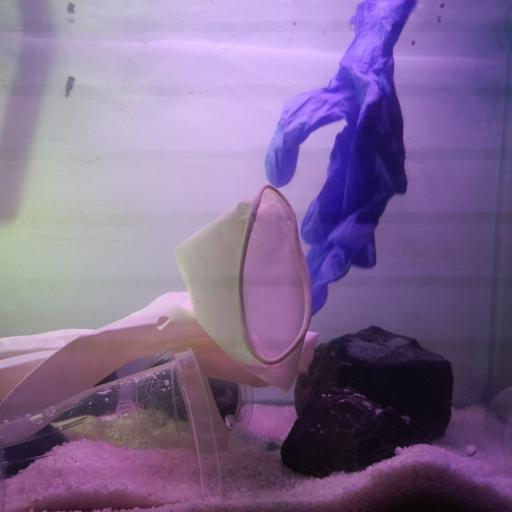glove: (2, 184, 310, 450), (263, 1, 420, 315)
plastic_cup: (3, 346, 223, 512), (138, 349, 254, 443)
